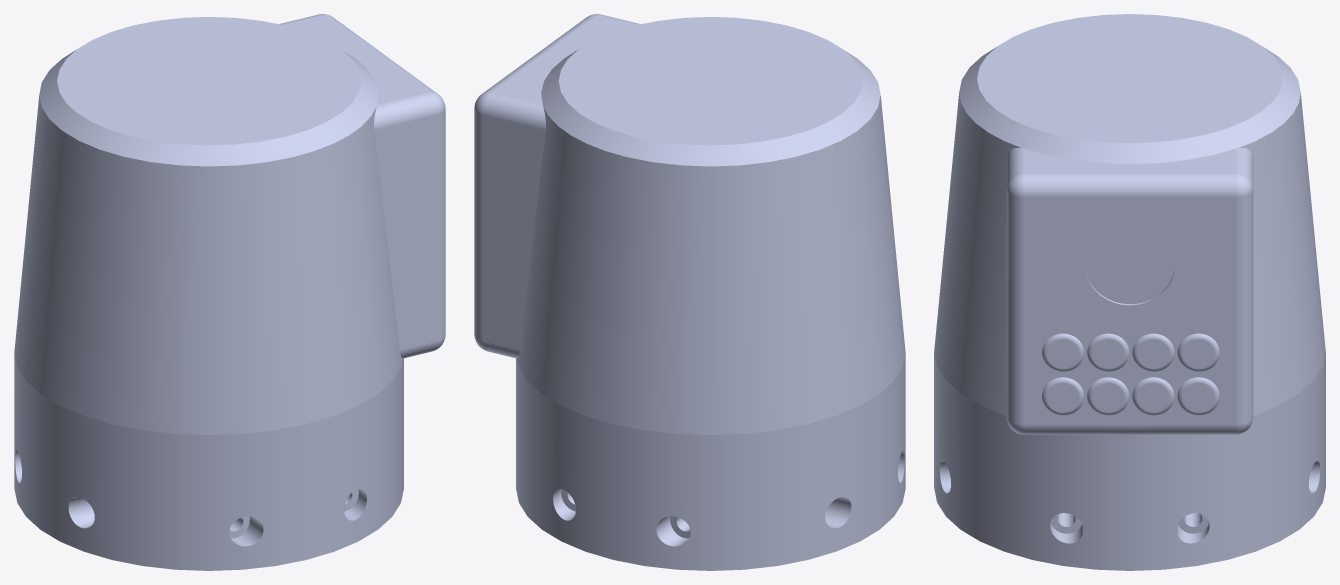
3 renders of one model, left to right at view 1: azimuth 30°, elevation 25°; view 2: azimuth 150°, elevation 25°; view 3: azimuth 270°, elevation 25°, orthographic.
Visible parts, largest first — view 1: Base-Link; view 2: Base-Link; view 3: Base-Link.
Boxes of the visible parts, box(x1,y1,x2,y2) form: Base-Link: box(14, 14, 445, 570); Base-Link: box(474, 14, 905, 570); Base-Link: box(934, 14, 1325, 570).
Size of the model in its own units: 0.136 by 0.15 by 0.13.
